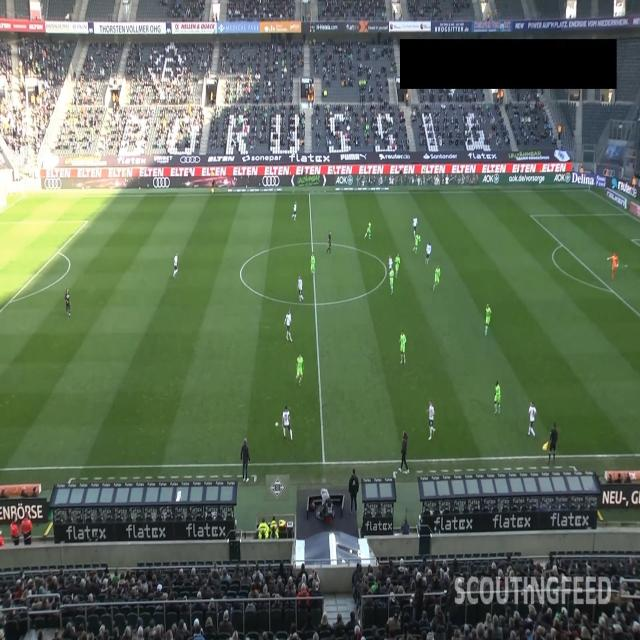ball: (274, 421, 278, 428)
